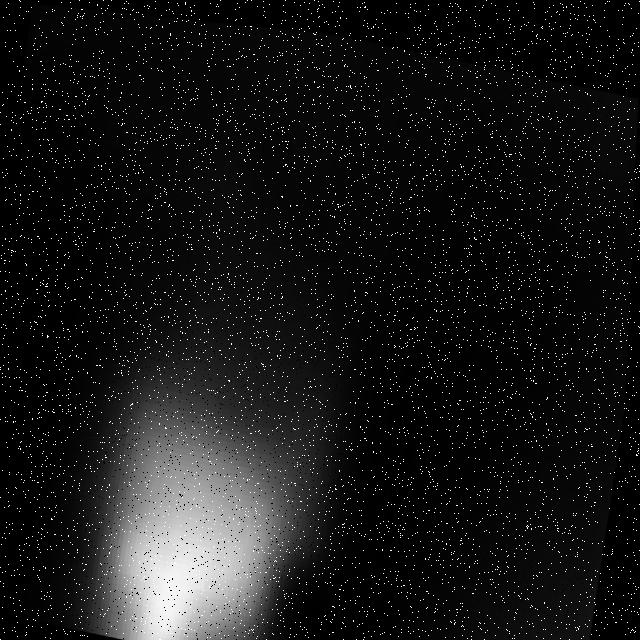person: (86, 235, 382, 640)
